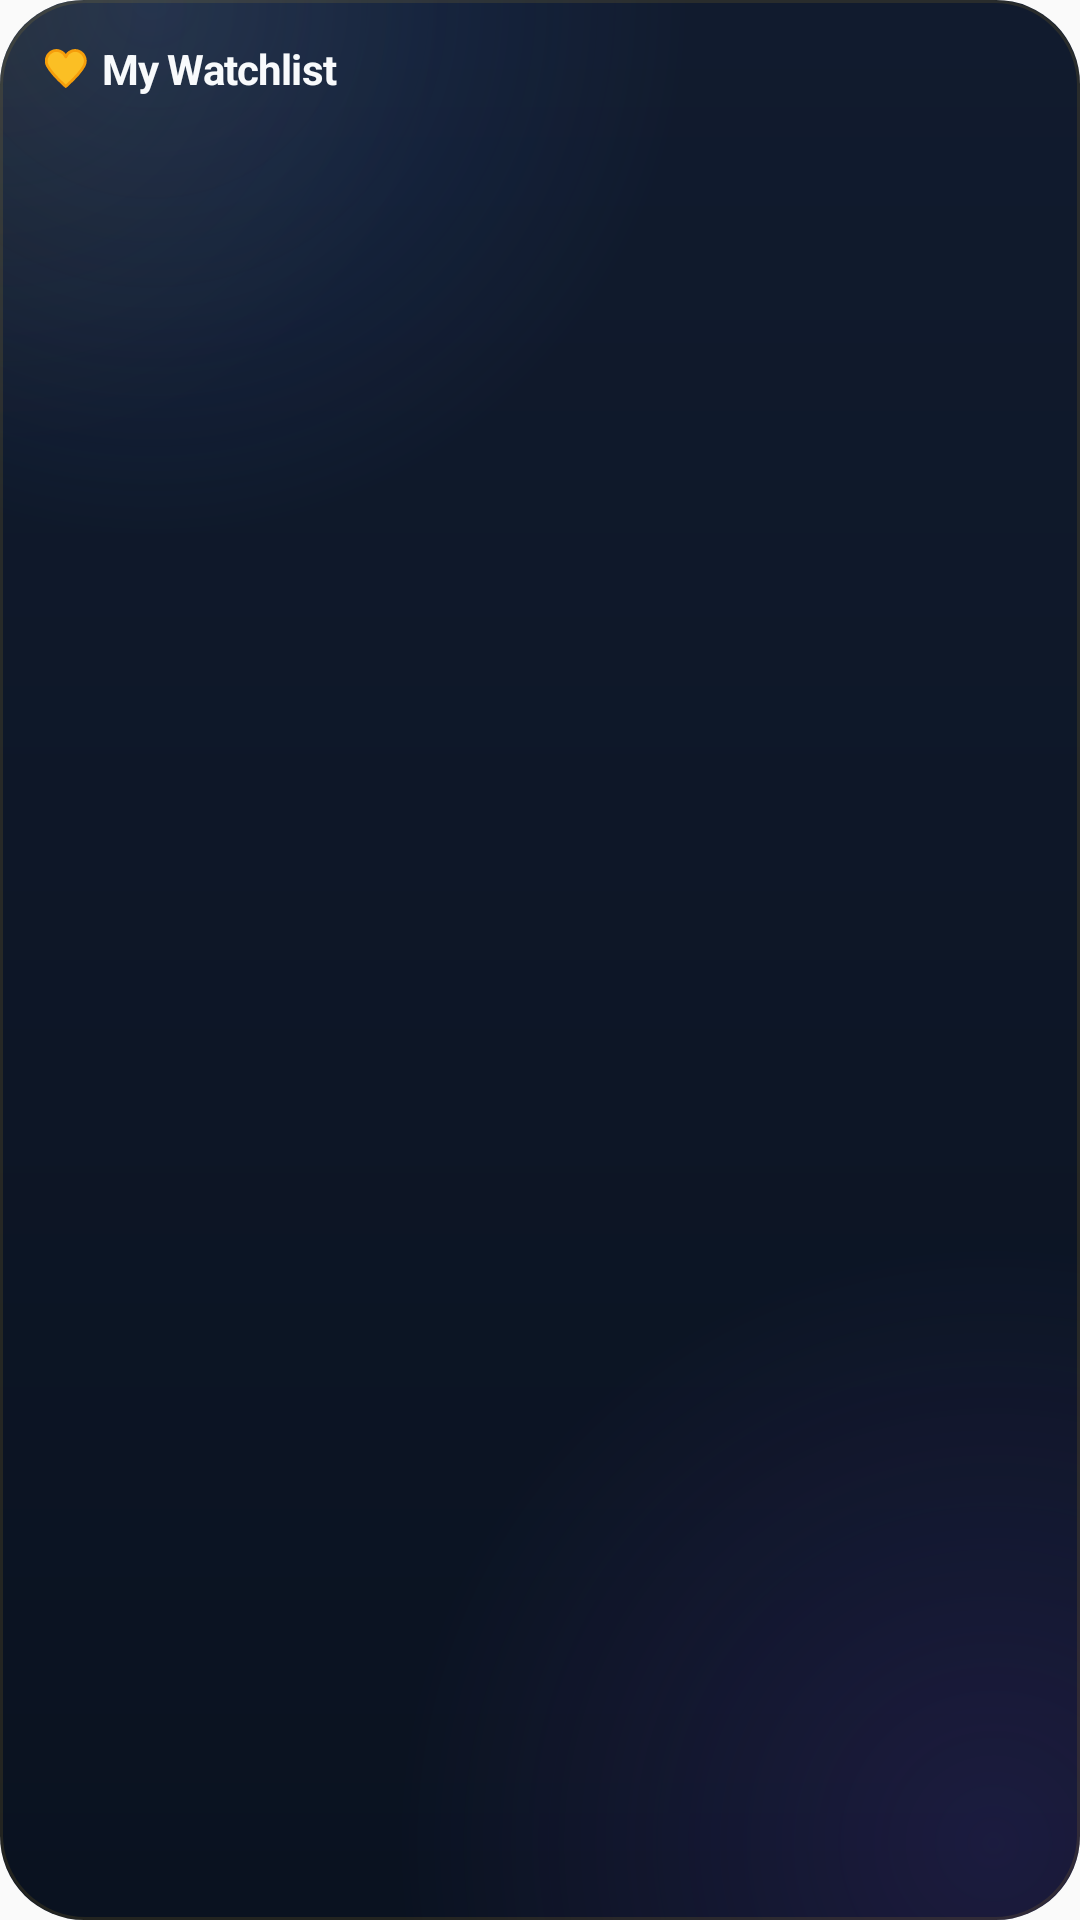

Named icons in this screenshot (1080px x 1920px) and their centers, (x=x, y=y):
widget heart: (x=66, y=68)
